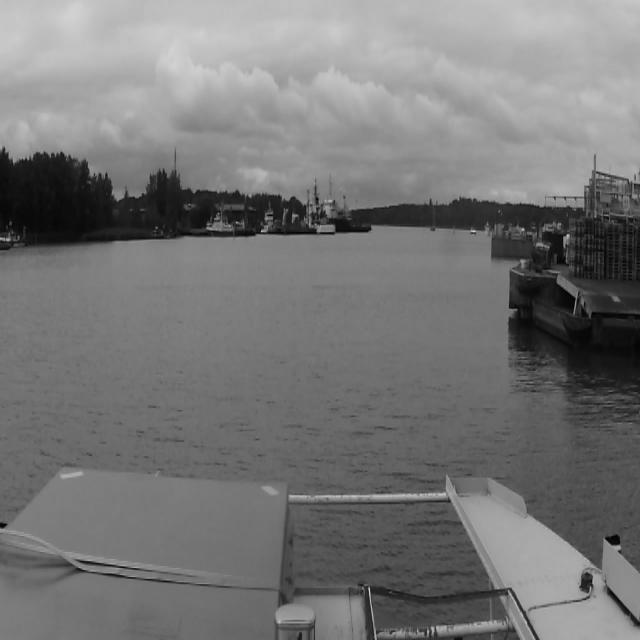ship: (305, 176, 329, 228), (207, 213, 244, 236), (260, 207, 276, 231)
